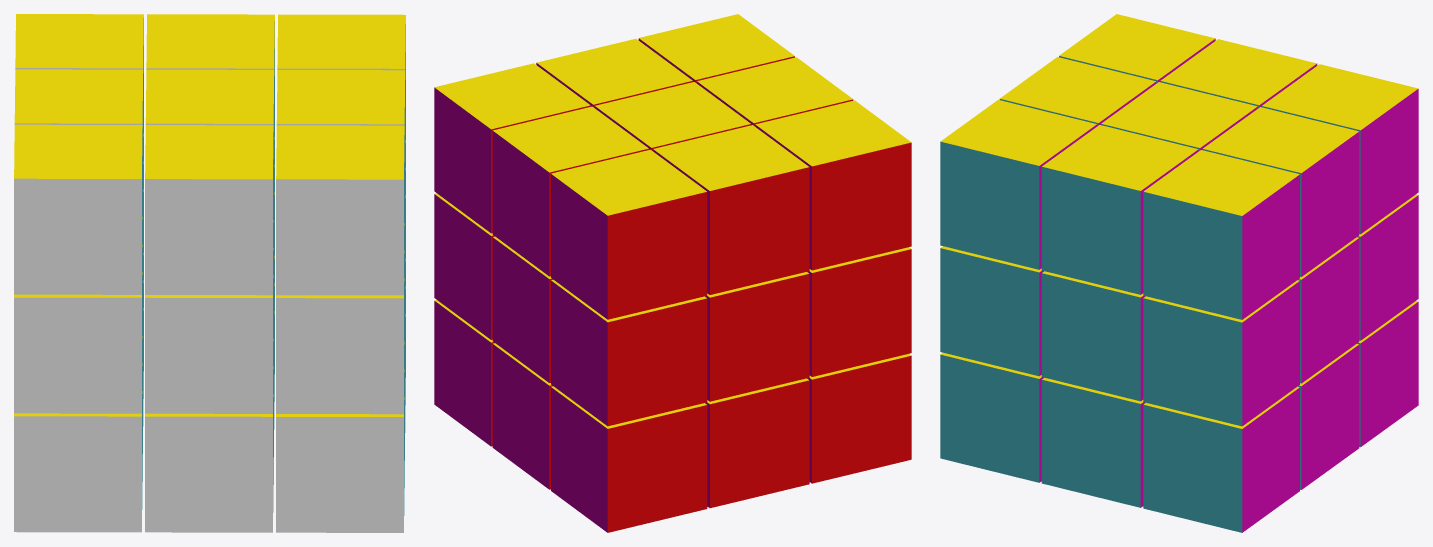
File: rubiks cube.glb
3 renders of one model, left to right at view 1: azimuth 30°, elevation 25°; view 2: azimuth 150°, elevation 25°; view 3: azimuth 270°, elevation 25°, orthographic. The views are drawn at different scales.
Visible parts, largest first — view 1: Cube.002; view 2: Cube.002; view 3: Cube.002.
Part boxes in pixels (<box>): Cube.002: <box>14,14,405,532</box>; Cube.002: <box>434,14,911,532</box>; Cube.002: <box>940,14,1418,532</box>.
Bounding box in the file's own units: 3.35 × 2.45 × 3.35.
